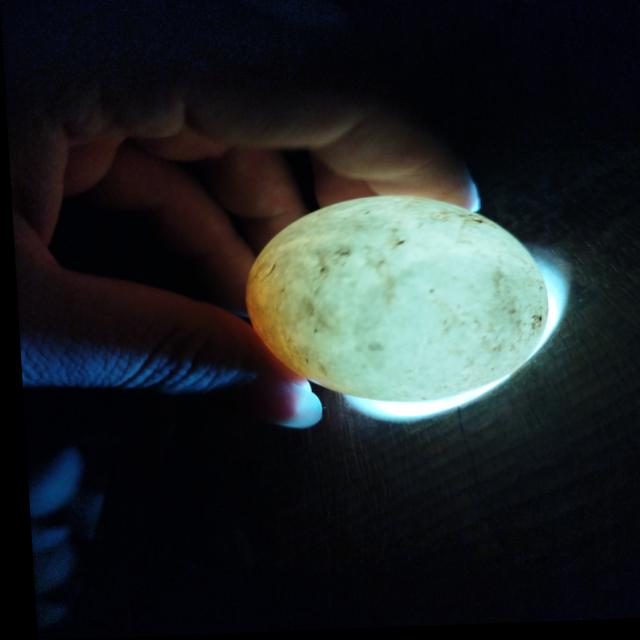Camara de Ar: (350, 261, 539, 396)
